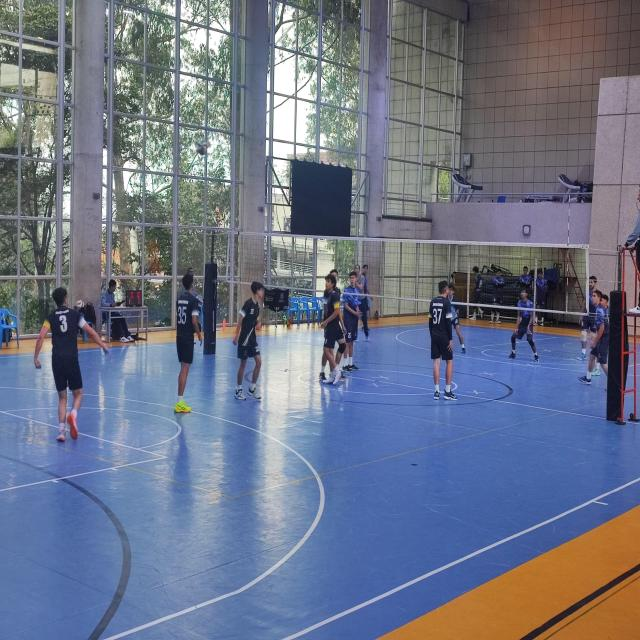volleyball: (197, 140, 207, 154), (76, 300, 84, 310)
